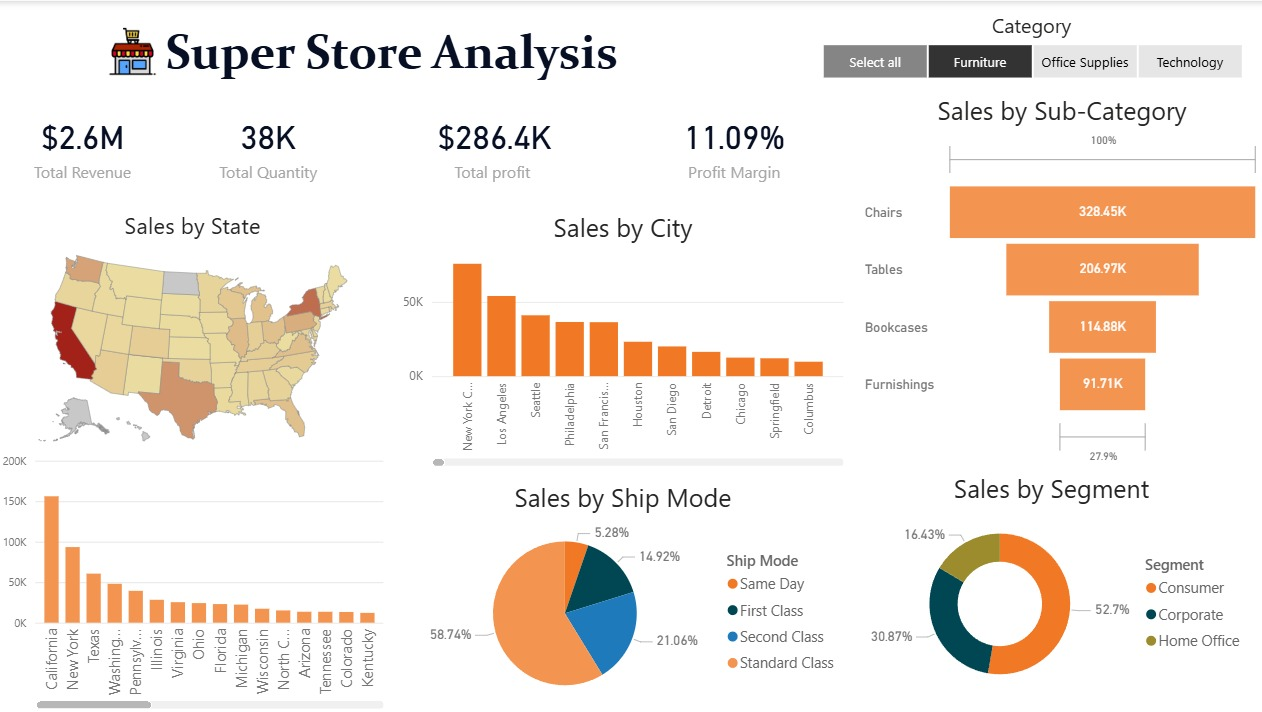

Layout of this report page (visuals, bound fields, positions):
{"tool":"powerbi","page":{"name":"Sales","canvas":[1280,720],"ordinal":0},"visuals":[{"type":"textbox","box":[165.7,16.4,479.3,72.1],"z":0,"group":"g1"},{"type":"card","fields":{"Values":["SampleSuperstore.Profit plus Sales"]},"box":[0,93,171.8,106.3],"z":0},{"type":"image","box":[107.7,20.4,58.2,59.3],"z":1000,"group":"g1"},{"type":"card","fields":{"Values":["Sum(SampleSuperstore.Quantity)"]},"box":[171.8,93,204.6,106.3],"z":1000},{"type":"card","fields":{"Values":["Sum(SampleSuperstore.Profit)"]},"box":[376.4,93,249.7,106.3],"z":2000},{"type":"card","fields":{"Values":["SampleSuperstore.Profit divided by Total Revenue"]},"box":[626.1,93,233.8,106.3],"z":3000},{"type":"shapeMap","title":"Sales by State","fields":{"Category":["SampleSuperstore.State"],"Value":["Sum(SampleSuperstore.Sales)"]},"box":[0,209.9,395,248.9],"z":4000},{"type":"clusteredColumnChart","fields":{"Y":["Sum(SampleSuperstore.Sales)"],"Category":["SampleSuperstore.State"]},"box":[0,449.7,395.2,269.5],"z":5000},{"type":"clusteredColumnChart","title":"Sales by City","fields":{"Y":["Sum(SampleSuperstore.Sales)"],"Category":["SampleSuperstore.City"]},"box":[404.7,209.9,455.2,263.9],"z":6000},{"type":"pieChart","title":"Sales by Ship Mode","fields":{"Category":["SampleSuperstore.Ship Mode"],"Y":["Sum(SampleSuperstore.Sales)"]},"box":[404.7,483.5,455.2,235.6],"z":7000},{"type":"funnel","title":"Sales by Sub-Category","fields":{"Category":["SampleSuperstore.Sub-Category"],"Y":["Sum(SampleSuperstore.Sales)"]},"box":[870.6,93,409.2,380.8],"z":8000},{"type":"donutChart","title":"Sales by Segment","fields":{"Category":["SampleSuperstore.Segment"],"Y":["Sum(SampleSuperstore.Sales)"]},"box":[860.1,473.9,408.8,234.7],"z":9000},{"type":"slicer","title":"Category","fields":{"Values":["SampleSuperstore.Category"]},"box":[808.3,10,471.7,73.9],"z":10000},{"type":"group","id":"g1","title":"Group 1","box":[107.7,16.4,537.4,72.1],"z":11000}]}

Visuals, with their boxes in screenshot pixels (x1, y1, x2, y2), scaled from the page's 1280x720 canvas onto the 1262x712 screenshot:
textbox: <region>163, 16, 636, 88</region>
card - SampleSuperstore.Profit plus Sales: <region>0, 92, 169, 197</region>
image: <region>106, 20, 164, 79</region>
card - Sum(SampleSuperstore.Quantity): <region>169, 92, 371, 197</region>
card - Sum(SampleSuperstore.Profit): <region>371, 92, 617, 197</region>
card - SampleSuperstore.Profit divided by Total Revenue: <region>617, 92, 848, 197</region>
"Sales by State" shapeMap: <region>0, 208, 389, 454</region>
clusteredColumnChart - Sum(SampleSuperstore.Sales) x SampleSuperstore.State: <region>0, 445, 390, 711</region>
"Sales by City" clusteredColumnChart: <region>399, 208, 848, 469</region>
"Sales by Ship Mode" pieChart: <region>399, 478, 848, 711</region>
"Sales by Sub-Category" funnel: <region>858, 92, 1261, 469</region>
"Sales by Segment" donutChart: <region>848, 469, 1251, 701</region>
"Category" slicer: <region>797, 10, 1261, 83</region>
"Group 1" group: <region>106, 16, 636, 88</region>
